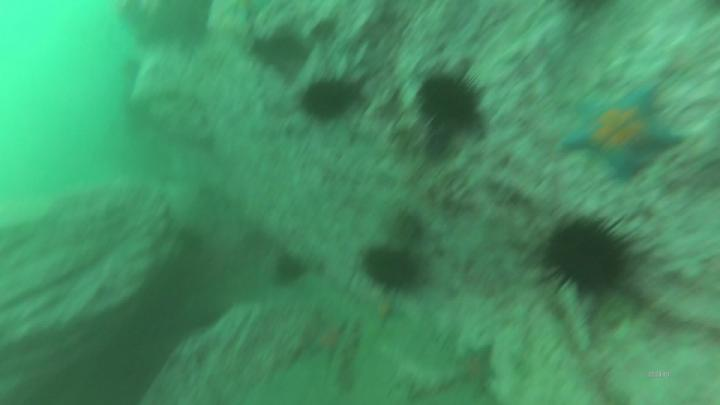echinus: (549, 222, 627, 286), (420, 78, 482, 130), (360, 249, 419, 285), (304, 81, 362, 116), (250, 34, 310, 63), (276, 255, 304, 282)
starfish: (566, 87, 687, 174), (310, 321, 353, 357), (457, 346, 492, 390)
